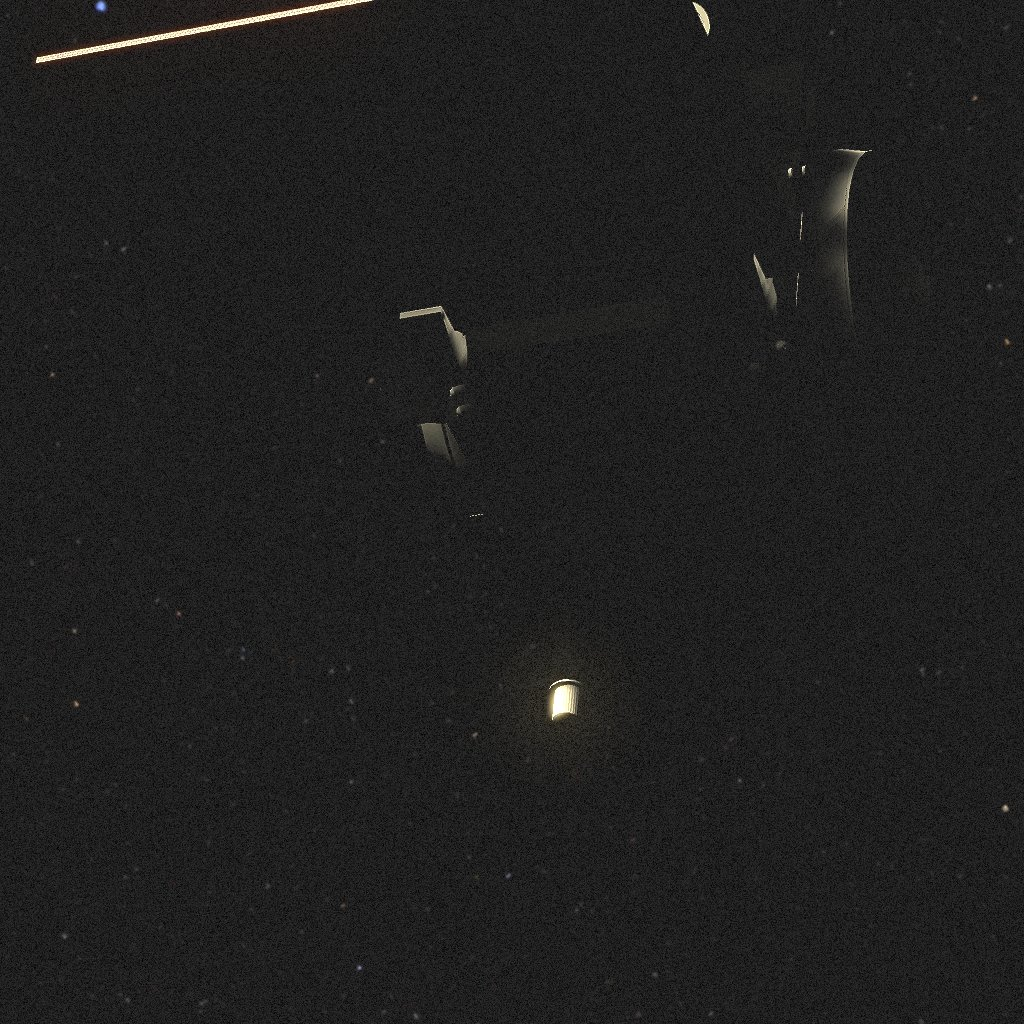proba_3_csc: (36, 0, 961, 730)
